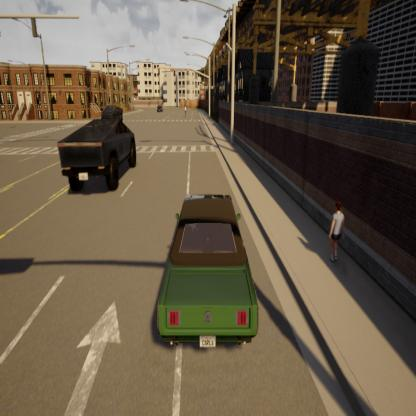Cars: (146, 181, 262, 359), (54, 113, 139, 200), (98, 103, 124, 125), (155, 104, 163, 113)
Pedestrian: (324, 194, 350, 268)
